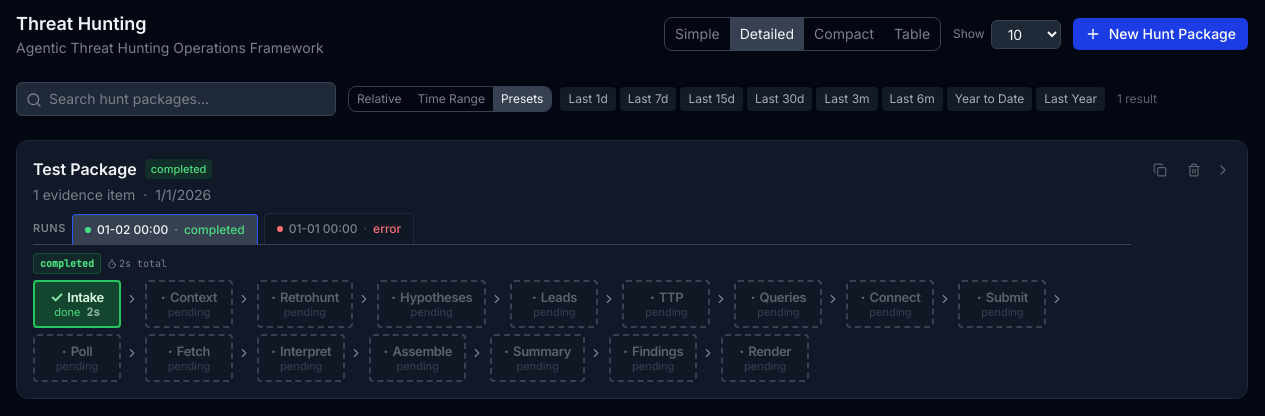
Test case: ThreatHunting list — density toggle + run chips (issue-local-016) › shows a run chip per run for a multi-run package, in both density modes, and switches the rail on click
Expected: the text "Test Package" is shown, left=33, top=157, right=137, bottom=181
Expected: the button "01-02 00:00 · completed" is shown, left=72, top=214, right=258, bottom=245
// Clicking the older run's tab switches the rail to that run's data.
Click the button "01-01 00:00 · error" at [339, 228], box left=264, top=213, right=414, bottom=244
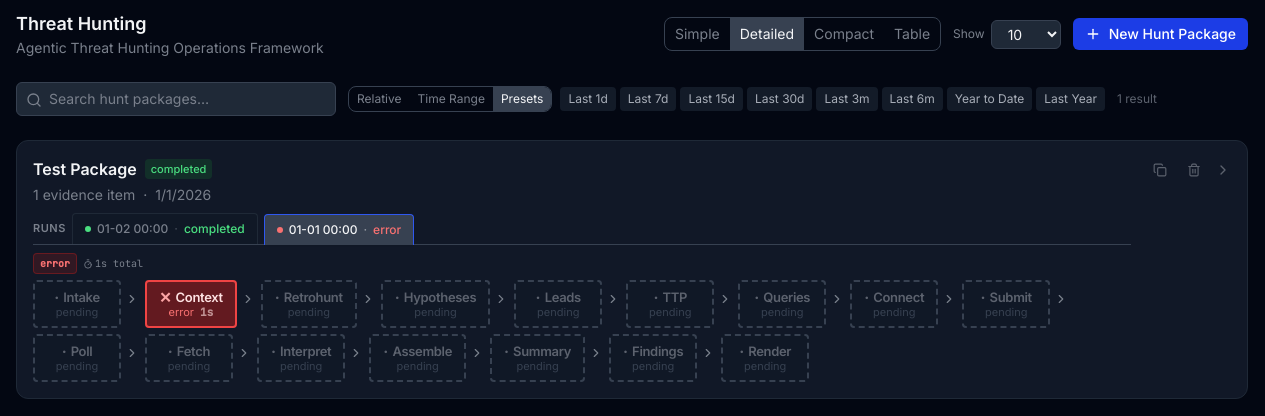
Result: the text "1s total" is shown at left=83, top=256, right=143, bottom=271
Result: the text "2s total" is gone
// Chip row survives switching to compact mode (only the heavy rail hides).
Click the button "Compact" at [844, 34], box left=804, top=18, right=884, bottom=50
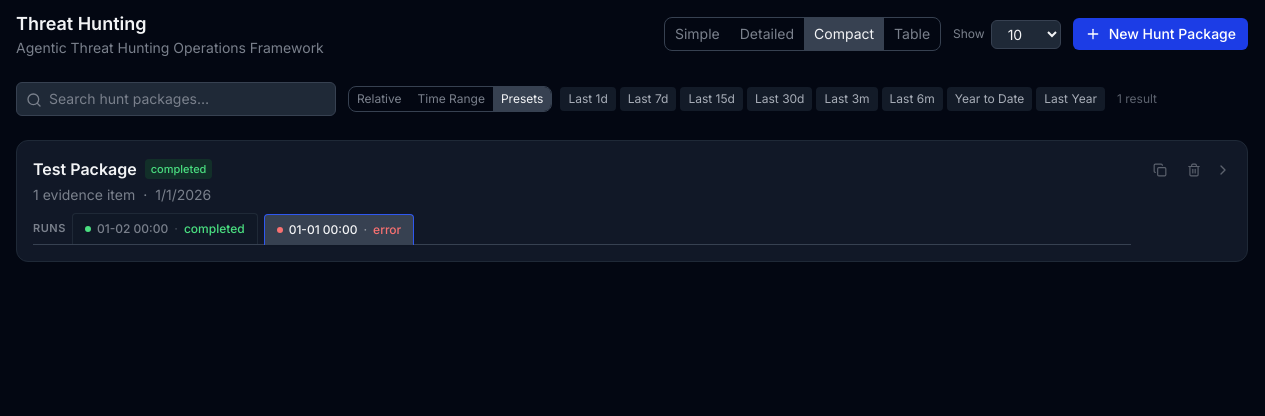
Expected: the button "01-01 00:00 · error" is shown, left=264, top=214, right=414, bottom=245
Result: the text "Context" is gone
